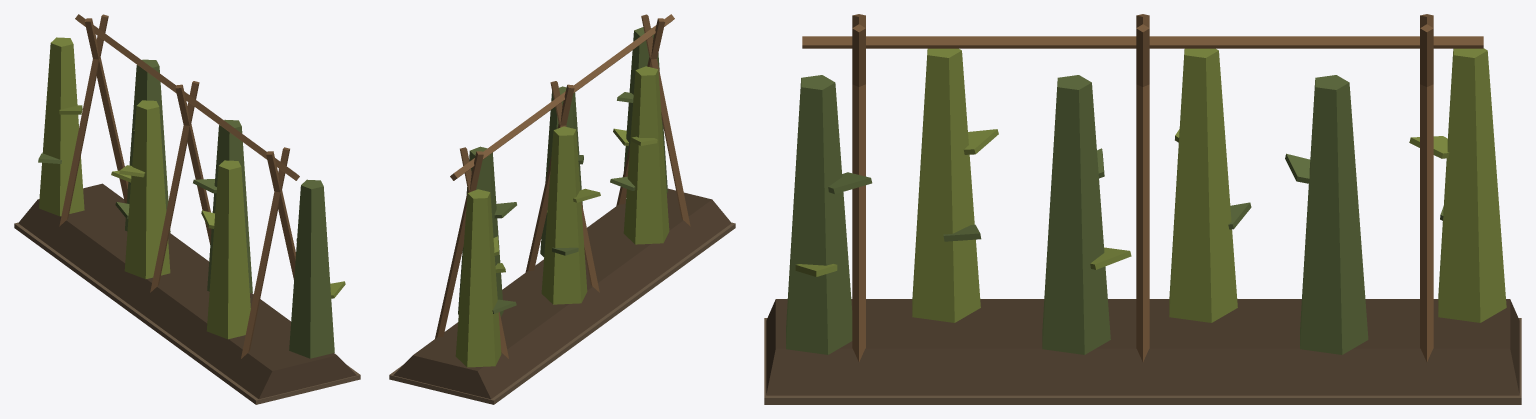
The model's file is crop_beans_s2.glb.
3 views of the same model, side by side, from view 1: azimuth 30°, elevation 25°; view 2: azimuth 150°, elevation 25°; view 3: azimuth 270°, elevation 25° (orthographic). The views are drawn at different scales.
Parts seen in each view (by area): view 1: crop_beans_s2_mesh; view 2: crop_beans_s2_mesh; view 3: crop_beans_s2_mesh.
Boxes of the visible parts, <box> form: crop_beans_s2_mesh: <box>14,14,360,404</box>; crop_beans_s2_mesh: <box>389,14,735,404</box>; crop_beans_s2_mesh: <box>764,14,1521,404</box>.
Bounding box in the file's own units: 0.5119 × 1.01 × 2.
